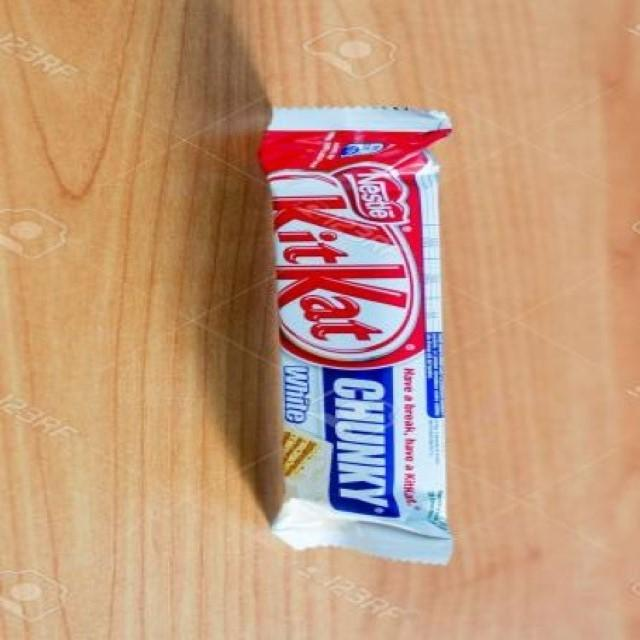kitkat_chocolate: (255, 120, 487, 597)
